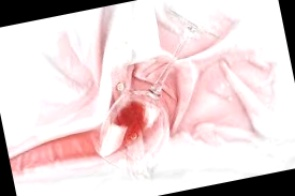wine: (159, 55, 265, 105), (10, 131, 108, 175), (179, 84, 243, 138)
